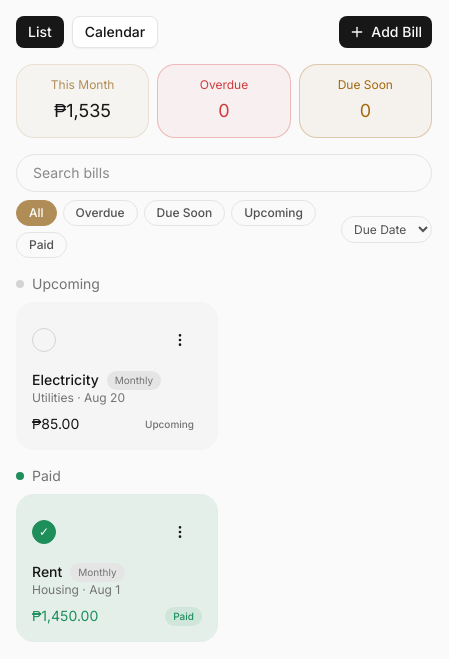
it: BillsPage › switches to the calendar view when the Calendar toggle is clicked
The image size is (449, 659).
Click the button with test id "bills-view-calendar" at (115,32), box [72,16,158,48]
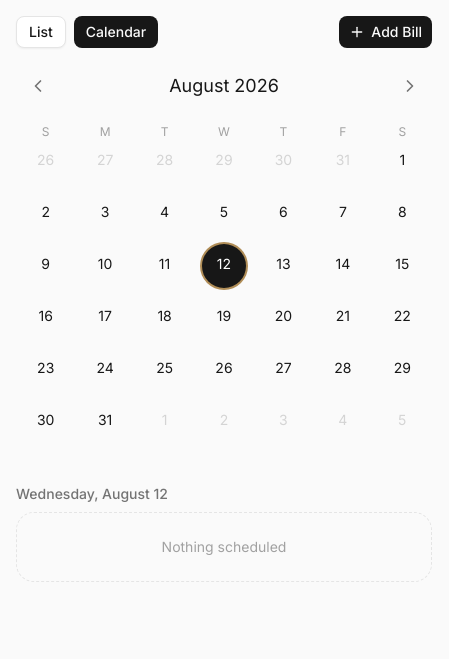
Check: the element with test id "month-grid" is shown, box [16,64,432,444]
Check: the element with test id "bills-list-view" is gone
